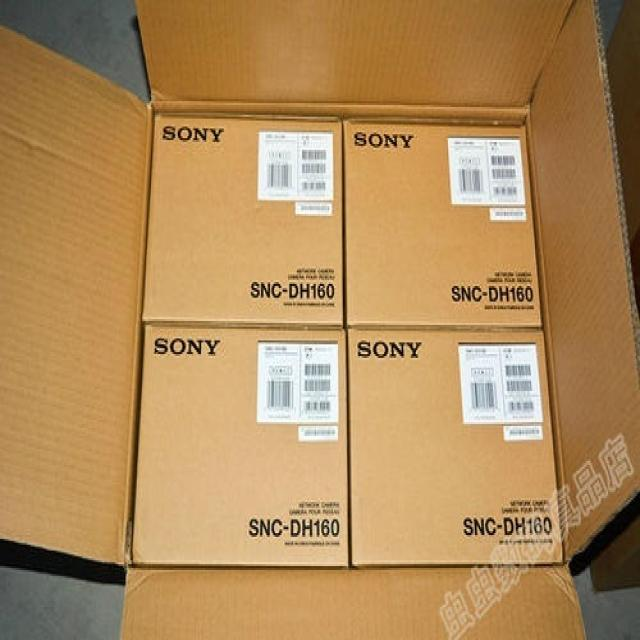box: (129, 325, 349, 568), (347, 327, 564, 568), (141, 113, 343, 327), (343, 119, 543, 327)
